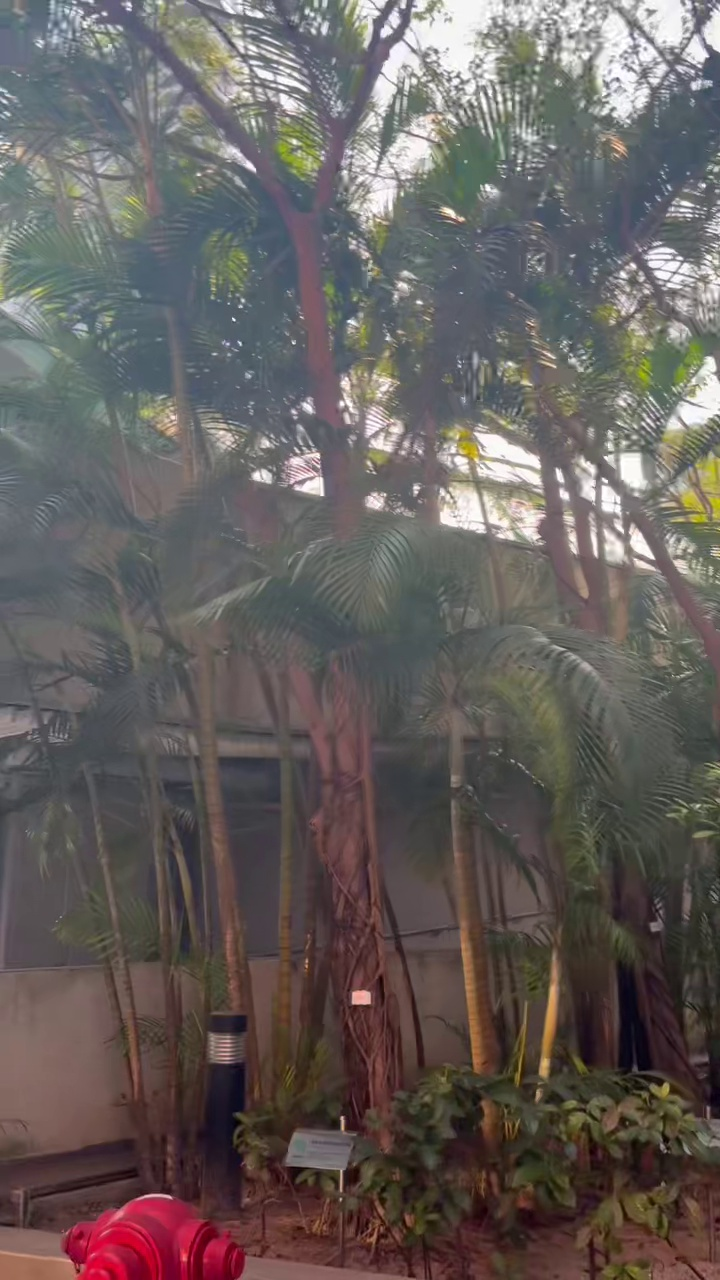Ficus benjamina: (103, 0, 413, 1117)
